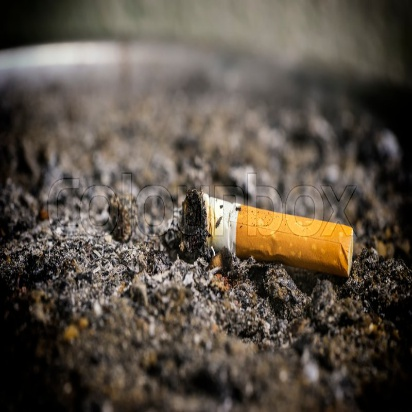cigarette: (174, 191, 362, 280)
